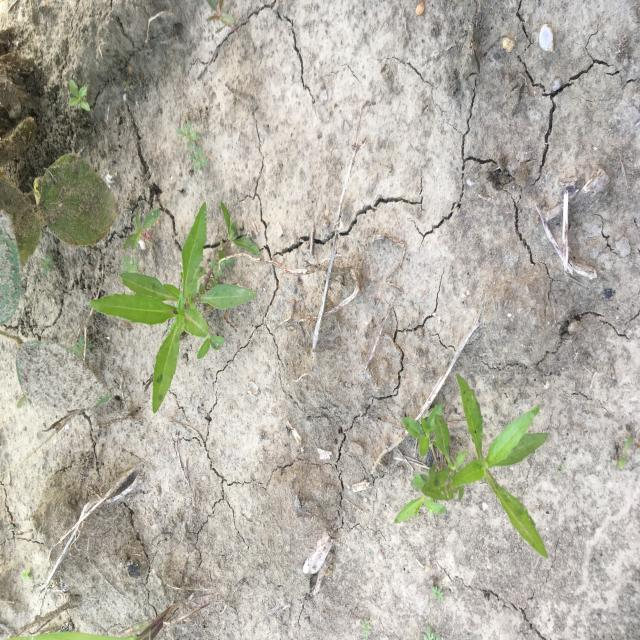Eclipta: (87, 200, 262, 416), (391, 372, 551, 562)
